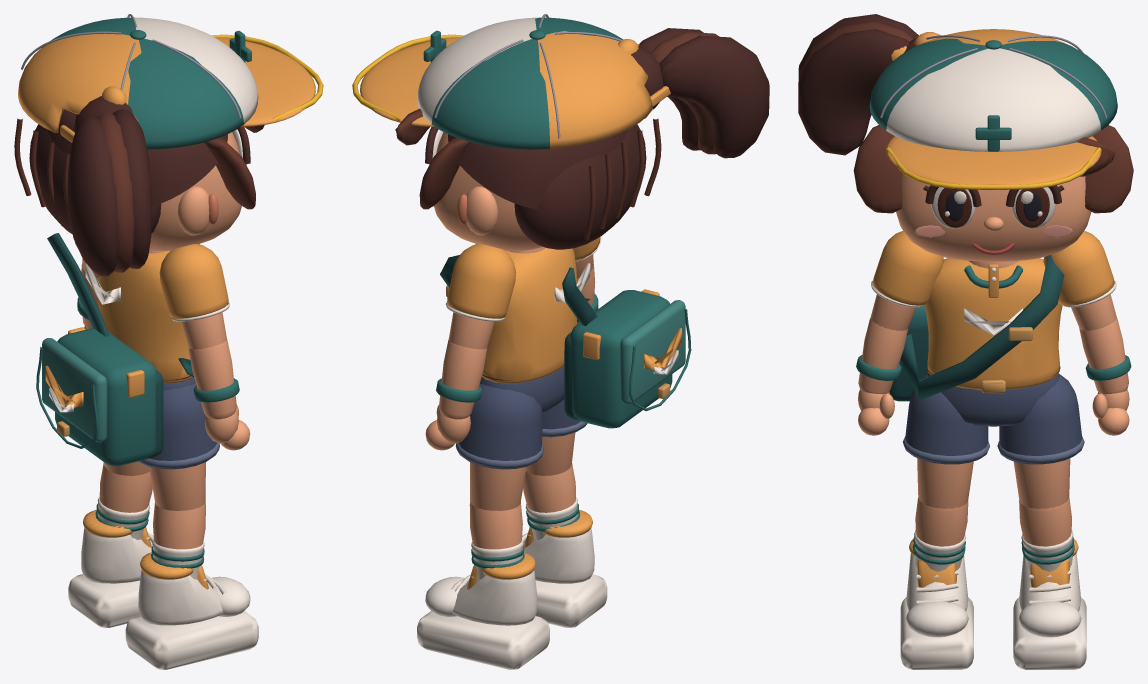
3 renders of one model, left to right at view 1: azimuth 30°, elevation 25°; view 2: azimuth 150°, elevation 25°; view 3: azimuth 270°, elevation 25°, orthographic.
Parts seen in each view (by area): view 1: head, backpackSocket_geometry, footR, torso, footL, legR, armR, shinR, shinL, foreArmR, handR; view 2: head, backpackSocket_geometry, footL, torso, legL, footR, armL, shinL, shinR, foreArmL, legR, hip (+1 smaller); view 3: head, torso, footL, footR, legL, legR, armR, armL, hip, shinL, shinR, foreArmR (+4 smaller).
Part boxes in pixels (x1=…): head: x1=14, y1=14, x2=323, y2=276; backpackSocket_geometry: x1=36, y1=327, x2=163, y2=466; footR: x1=125, y1=552, x2=258, y2=669; torso: x1=47, y1=233, x2=199, y2=383; footL: x1=68, y1=509, x2=153, y2=627; legR: x1=138, y1=383, x2=219, y2=510; armR: x1=159, y1=244, x2=229, y2=349; shinR: x1=151, y1=502, x2=205, y2=579; shinL: x1=95, y1=462, x2=152, y2=539; foreArmR: x1=188, y1=339, x2=239, y2=419; handR: x1=205, y1=405, x2=250, y2=450; head: x1=352, y1=14, x2=769, y2=253; backpackSocket_geometry: x1=564, y1=289, x2=691, y2=428; footL: x1=417, y1=552, x2=549, y2=669; torso: x1=440, y1=244, x2=597, y2=383; legL: x1=455, y1=384, x2=543, y2=510; footR: x1=522, y1=510, x2=607, y2=627; armL: x1=445, y1=244, x2=516, y2=349; shinL: x1=469, y1=502, x2=524, y2=579; shinR: x1=523, y1=463, x2=579, y2=540; foreArmL: x1=436, y1=340, x2=487, y2=419; legR: x1=526, y1=399, x2=587, y2=475; hip: x1=480, y1=366, x2=564, y2=412; head: x1=798, y1=14, x2=1133, y2=268; torso: x1=900, y1=255, x2=1064, y2=400; footL: x1=1013, y1=539, x2=1086, y2=669; footR: x1=900, y1=539, x2=973, y2=669; legL: x1=997, y1=373, x2=1084, y2=508; legR: x1=903, y1=373, x2=989, y2=508; armR: x1=870, y1=231, x2=943, y2=330; armL: x1=1043, y1=230, x2=1116, y2=330; hip: x1=927, y1=366, x2=1060, y2=426; shinL: x1=1019, y1=497, x2=1074, y2=571; shinR: x1=912, y1=497, x2=968, y2=571; foreArmR: x1=856, y1=318, x2=908, y2=394.
Size of the model in its own units: 0.7709 by 1.46 by 0.7437.
